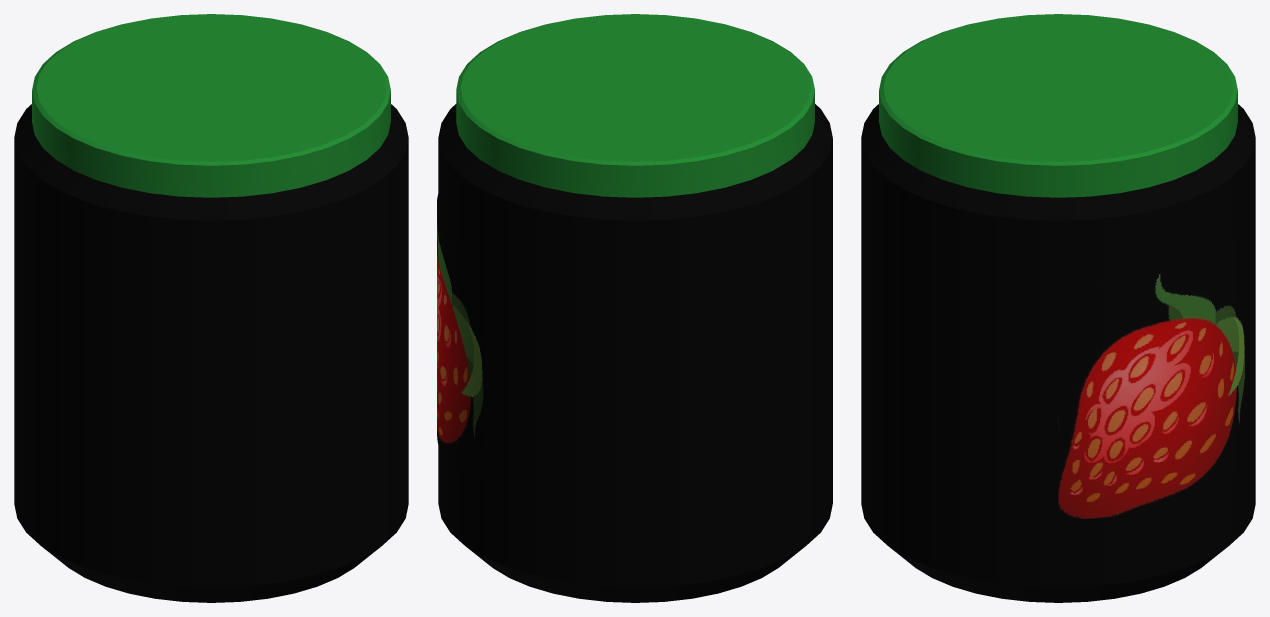
Rendered from strawberry.obj.
3 renders of one model, left to right at view 1: azimuth 30°, elevation 25°; view 2: azimuth 150°, elevation 25°; view 3: azimuth 270°, elevation 25°, orthographic.
Parts seen in each view (by area): view 1: Pot, Dop; view 2: Pot, Dop, Plane; view 3: Pot, Dop, Plane.
Part boxes in pixels (x1=…): Pot: x1=14, y1=104, x2=408, y2=602; Dop: x1=32, y1=14, x2=390, y2=197; Pot: x1=438, y1=104, x2=832, y2=602; Dop: x1=456, y1=14, x2=814, y2=197; Plane: x1=437, y1=194, x2=483, y2=489; Pot: x1=861, y1=104, x2=1255, y2=602; Dop: x1=879, y1=14, x2=1237, y2=197; Plane: x1=1058, y1=231, x2=1244, y2=519.
Bounding box in the file's own units: 100 × 125 × 100.
